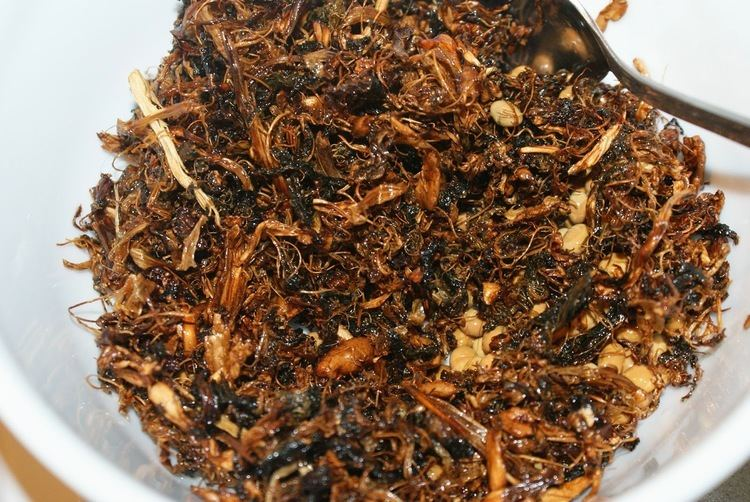gundruk: (72, 0, 693, 492)
